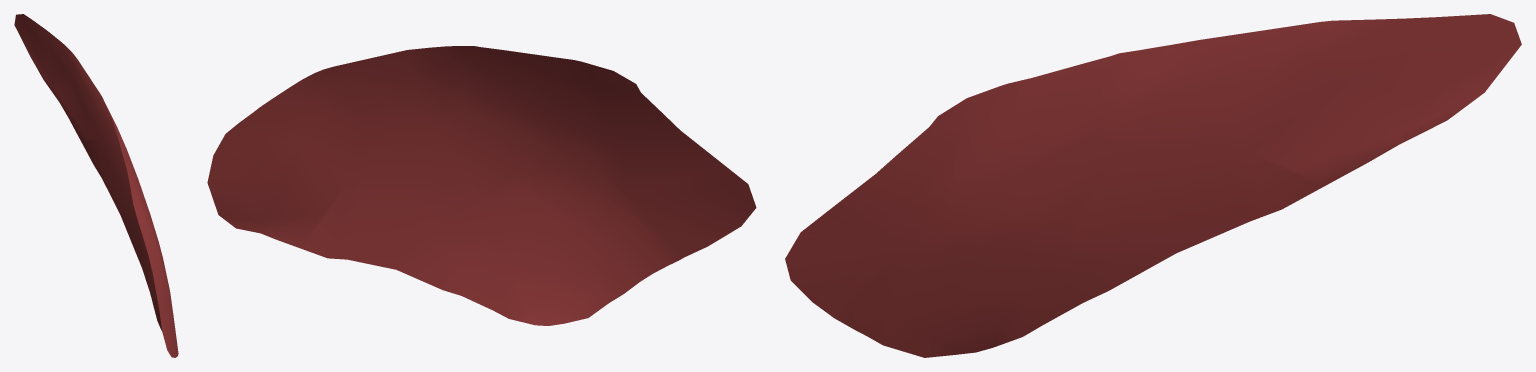
Rendered from serratus-anterior-muscle-e2r.glb.
The picture shows the model from 3 angles, left to right: view 1: azimuth 30°, elevation 25°; view 2: azimuth 150°, elevation 25°; view 3: azimuth 270°, elevation 25°; orthographic projection. The views are drawn at different scales.
Parts seen in each view (by area): view 1: Serratus anterior muscle.e2r; view 2: Serratus anterior muscle.e2r; view 3: Serratus anterior muscle.e2r.
Boxes of the visible parts, box(x1,y1,x2,y2) form: Serratus anterior muscle.e2r: box(14, 14, 178, 357); Serratus anterior muscle.e2r: box(207, 46, 756, 325); Serratus anterior muscle.e2r: box(785, 14, 1521, 357).
Size of the model in its own units: 0.00657 by 0.0183 by 0.034.
